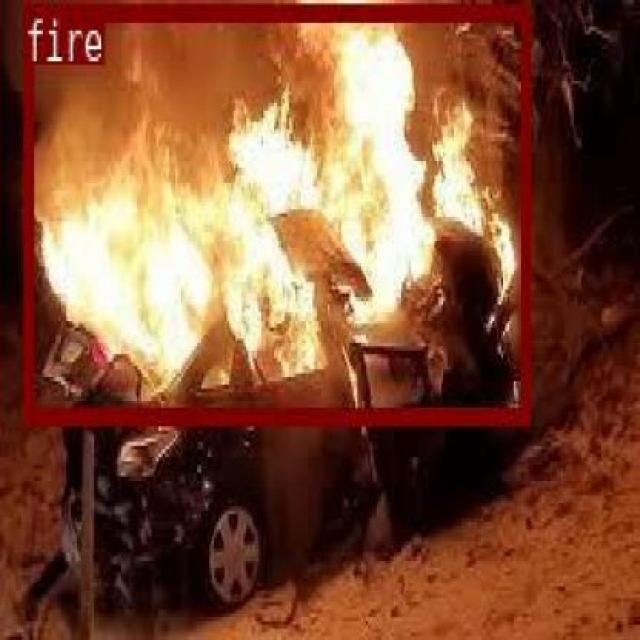Fire: (21, 3, 527, 420)
